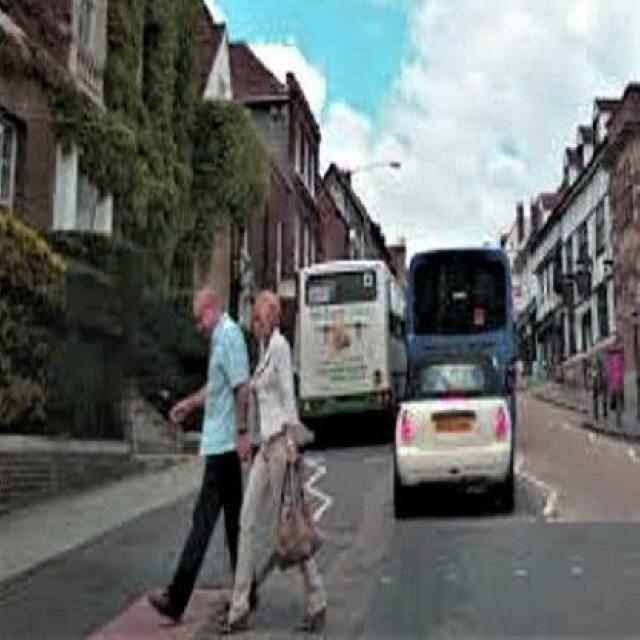Stand: (224, 291, 327, 634), (149, 286, 249, 622)
